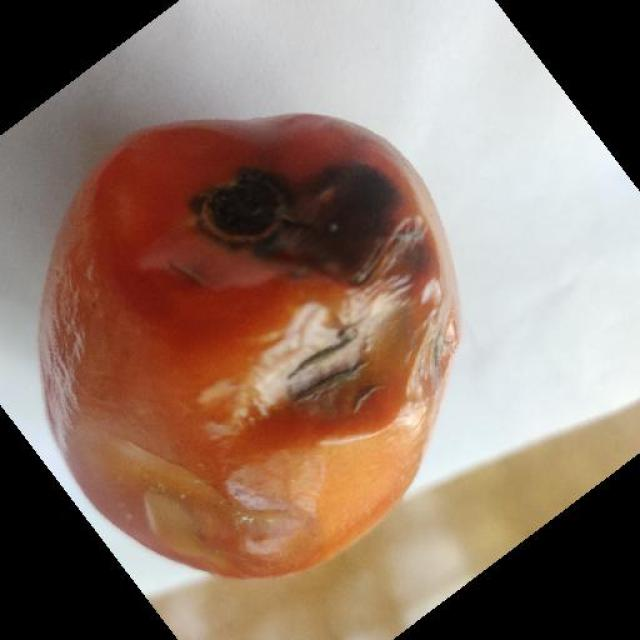Stale_tomato: (51, 115, 450, 574)
